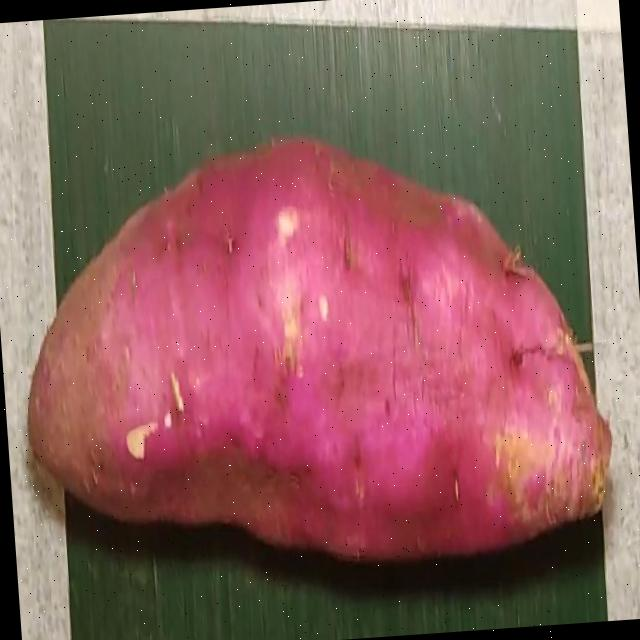Sweet Potato: (27, 152, 614, 561)
